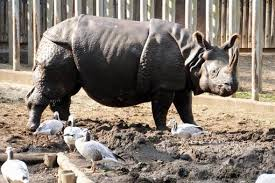Rhinoceros: (24, 12, 249, 137)
